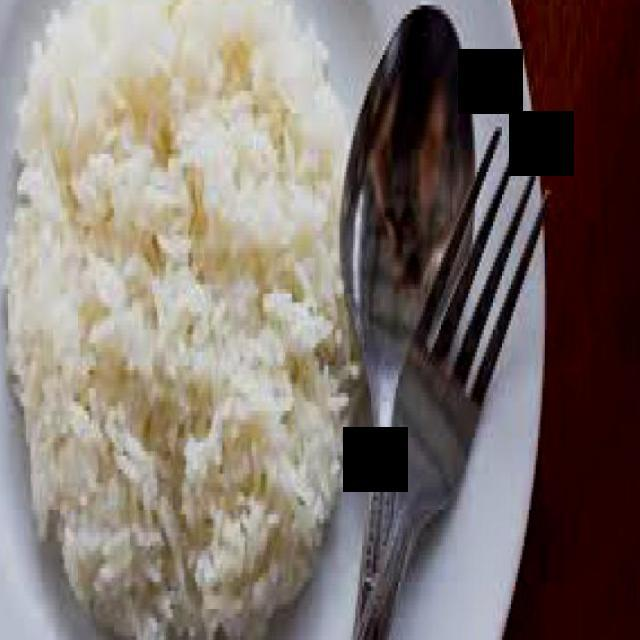rice: (7, 0, 361, 640)
